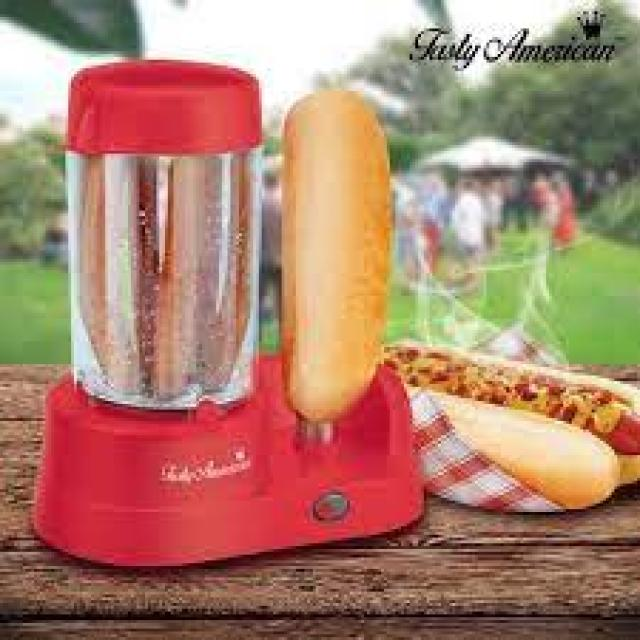Hot Dog: (283, 84, 412, 416), (423, 330, 640, 501)
